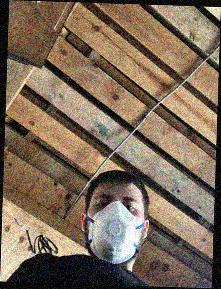with_mask: (85, 189, 143, 264)
